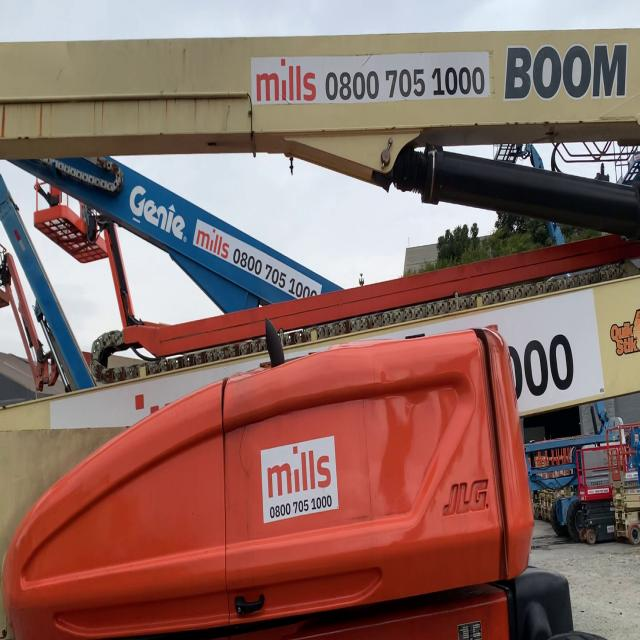Adesivo Longo: (250, 49, 492, 106)
Adesivos: (259, 433, 341, 526)
